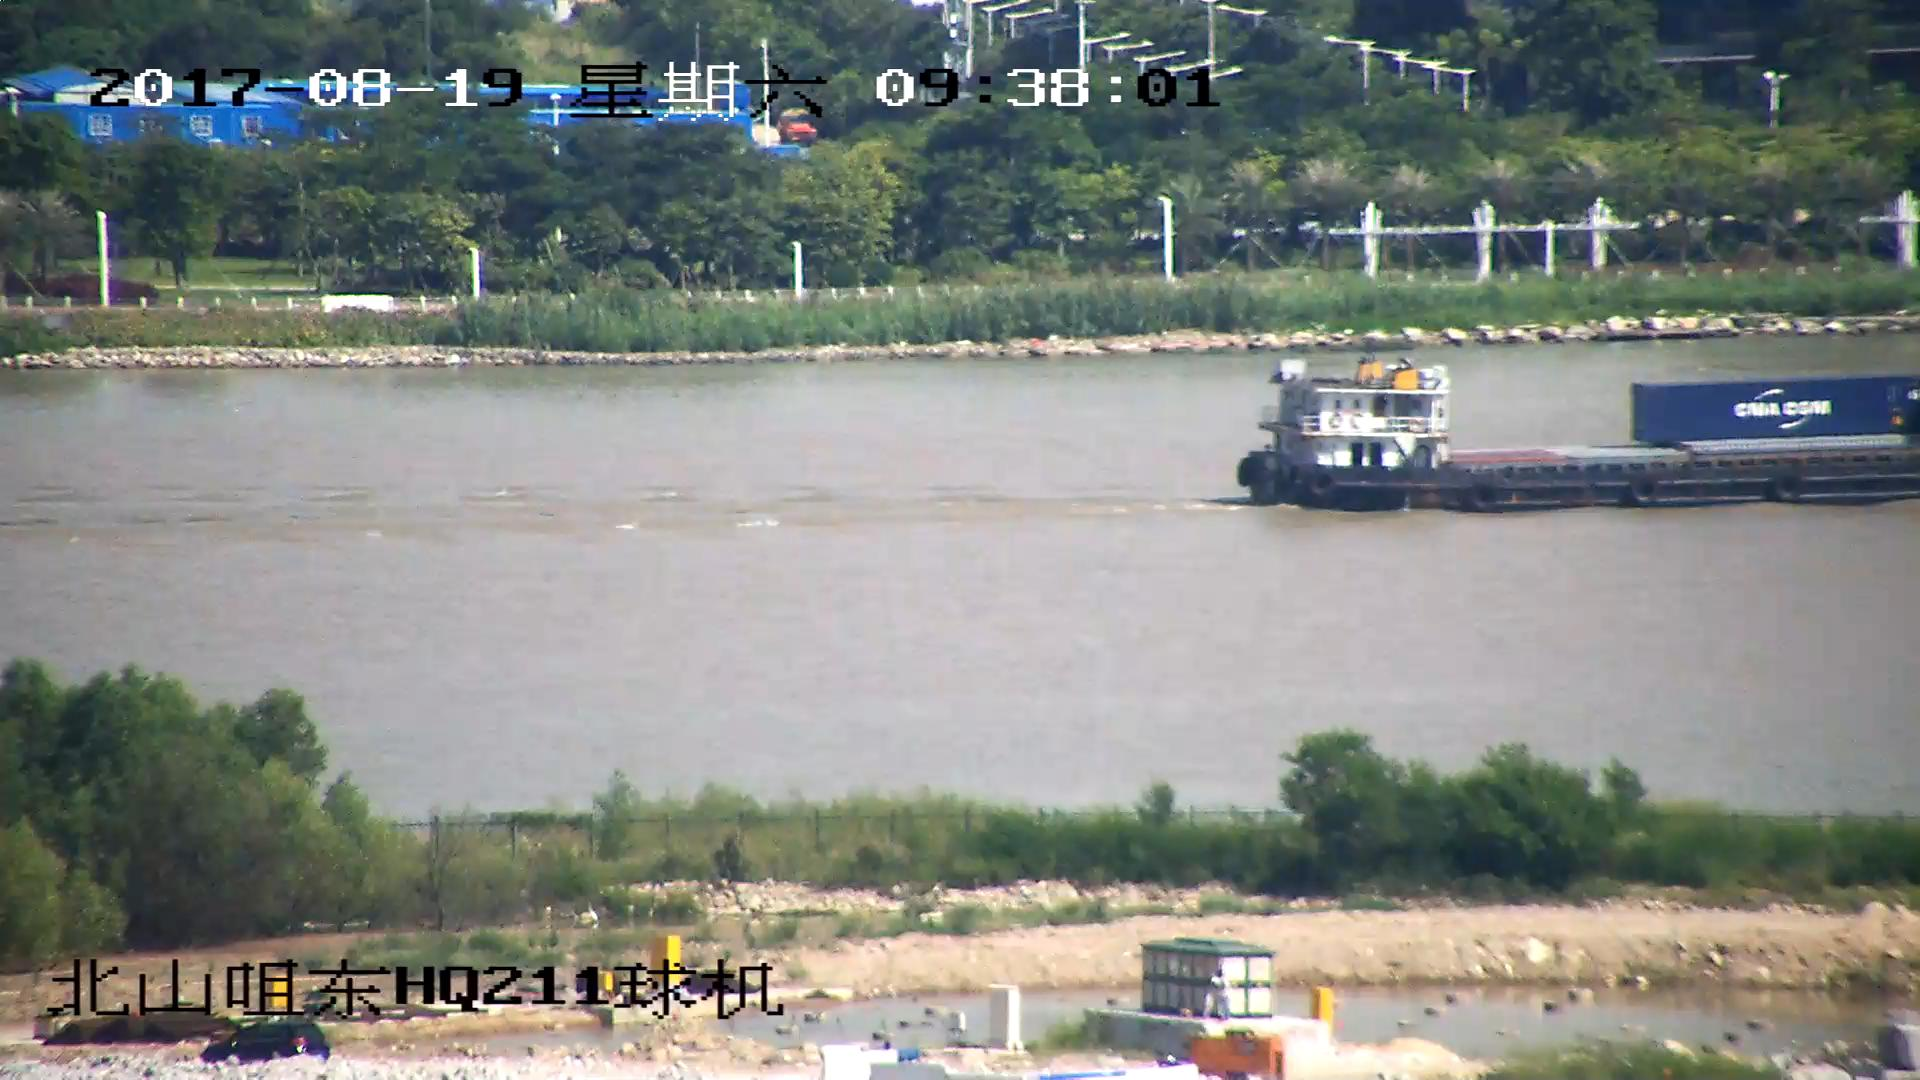container ship: (1233, 352, 1920, 517)
